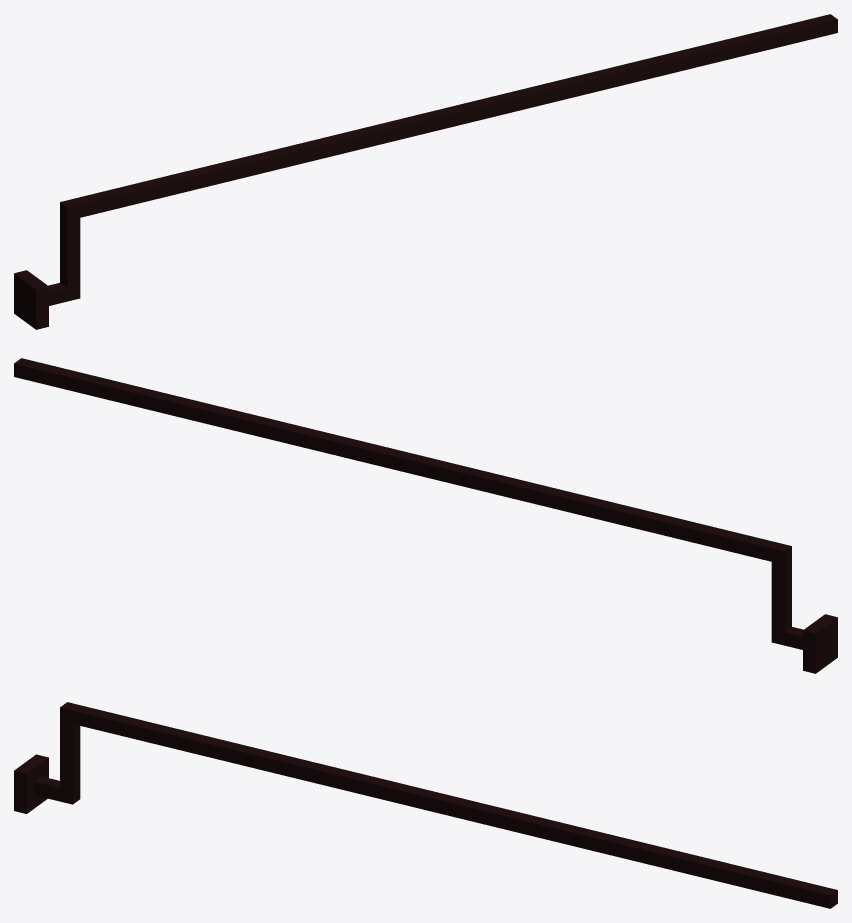
The model's file is Tuyau 2.obj.
3 views of the same model, one above another, from view 1: azimuth 30°, elevation 25°; view 2: azimuth 150°, elevation 25°; view 3: azimuth 330°, elevation 25° (orthographic).
Visible parts, largest first — view 1: Tuyau 2; view 2: Tuyau 2; view 3: Tuyau 2.
Boxes of the visible parts, bbox=[...] form: Tuyau 2: bbox=[14, 14, 837, 329]; Tuyau 2: bbox=[14, 358, 837, 673]; Tuyau 2: bbox=[14, 702, 837, 908].
Size of the model in its own units: 63 by 8 by 3.
Materials: 1 (1 with a texture image).
